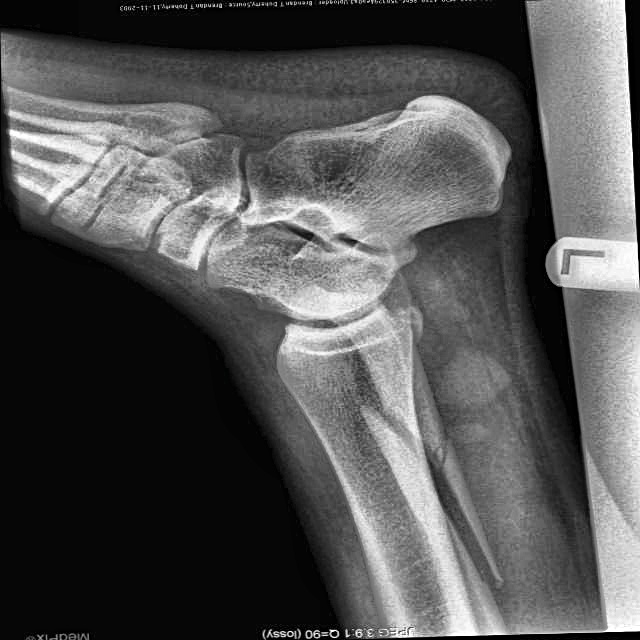Oblique Displaced: (348, 366, 498, 598)
